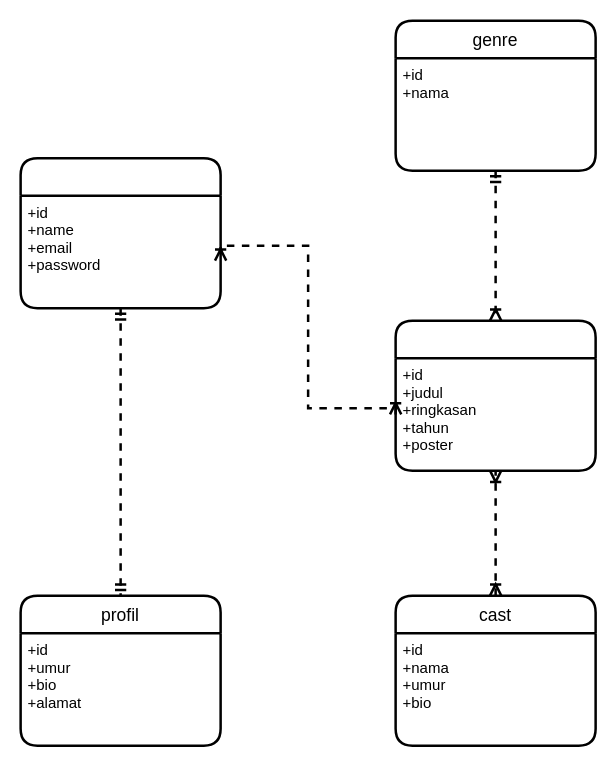
Some shapes in this 616 by 766 pixel diagram are drawn without their labels. Here are the shapes that lost their labels. From the top down, the box of each, then its label:
(19, 156, 221, 309): user
(394, 319, 596, 471): film
